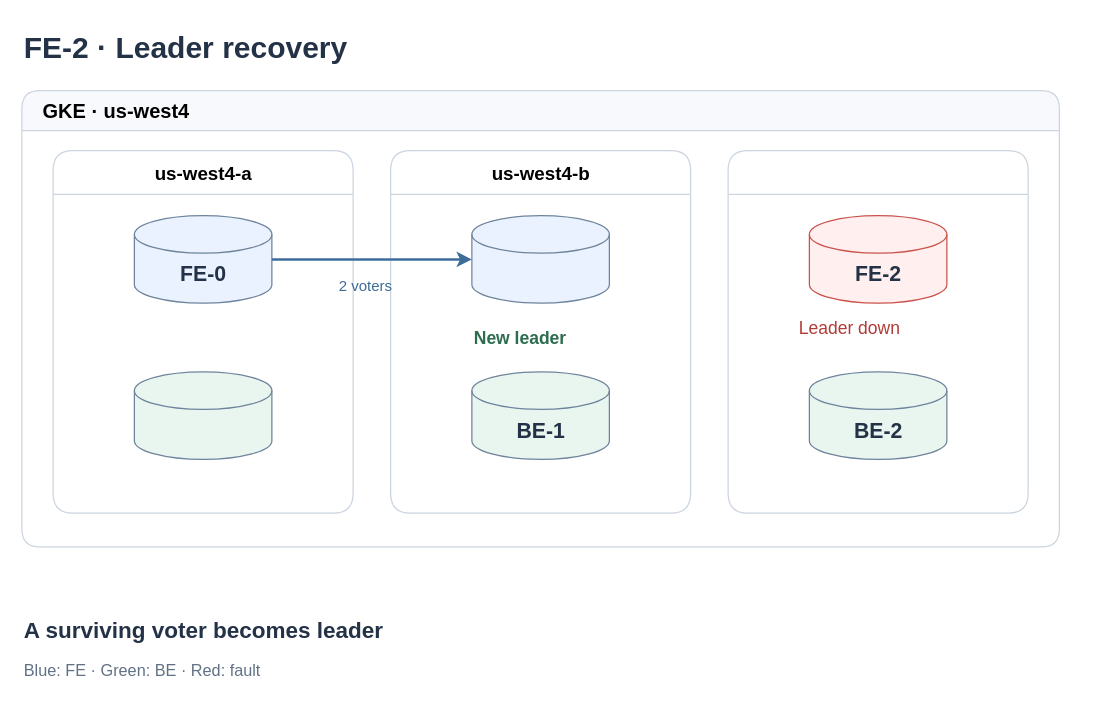
Some shapes in this 1094 by 709 pixel diagram are drawn without their labels. Here are the shapes that lost their labels. From the top down, the box of each, then its label:
(471, 214, 609, 303): FE-1
(727, 149, 1028, 513): us-west4-c
(133, 371, 272, 459): BE-0
